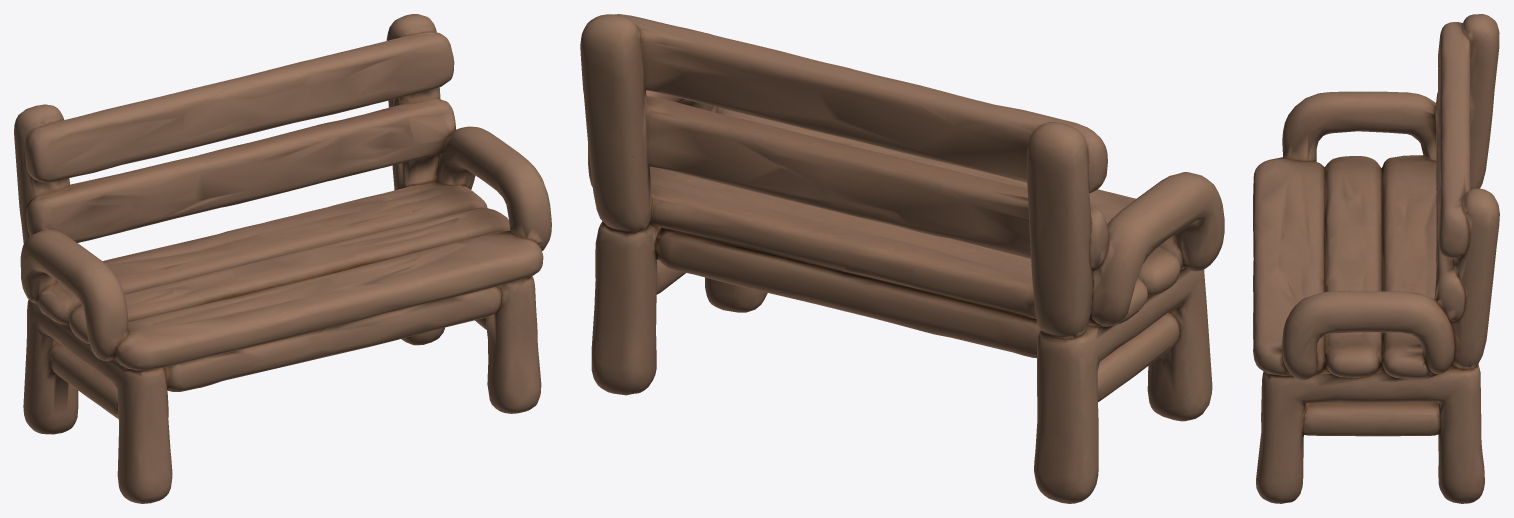
File: deco-bench.glb
3 renders of one model, left to right at view 1: azimuth 30°, elevation 25°; view 2: azimuth 150°, elevation 25°; view 3: azimuth 270°, elevation 25°, orthographic. The views are drawn at different scales.
Size of the model in its own units: 1.9 by 1.26 by 0.9158.
1 material, 1 textured.
